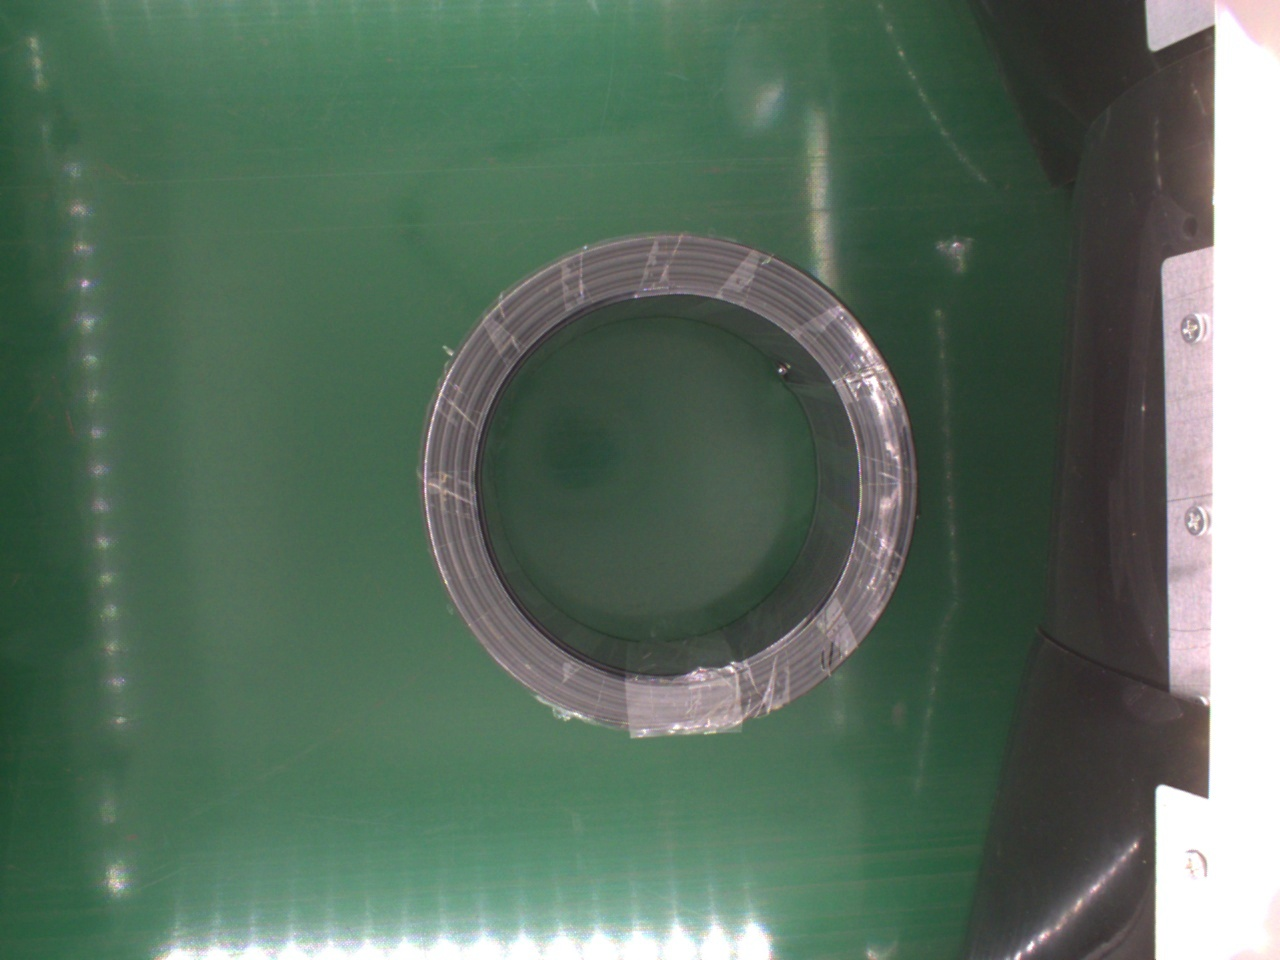black: (424, 234, 918, 734)
